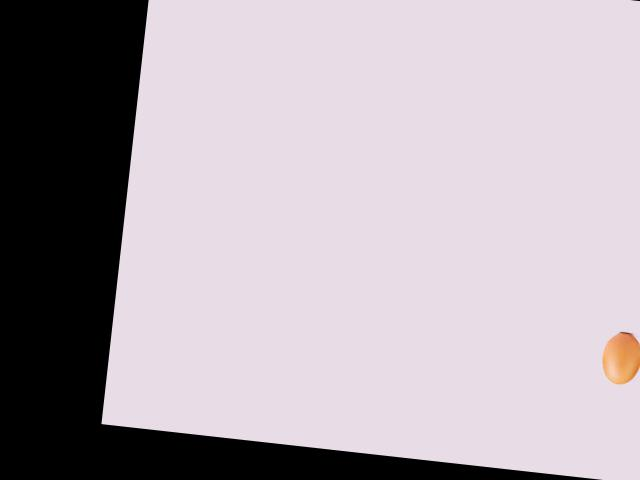egg: (600, 330, 640, 386)
